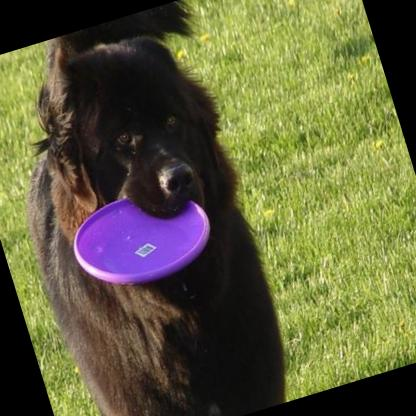Newfoundland: (0, 0, 307, 416)
